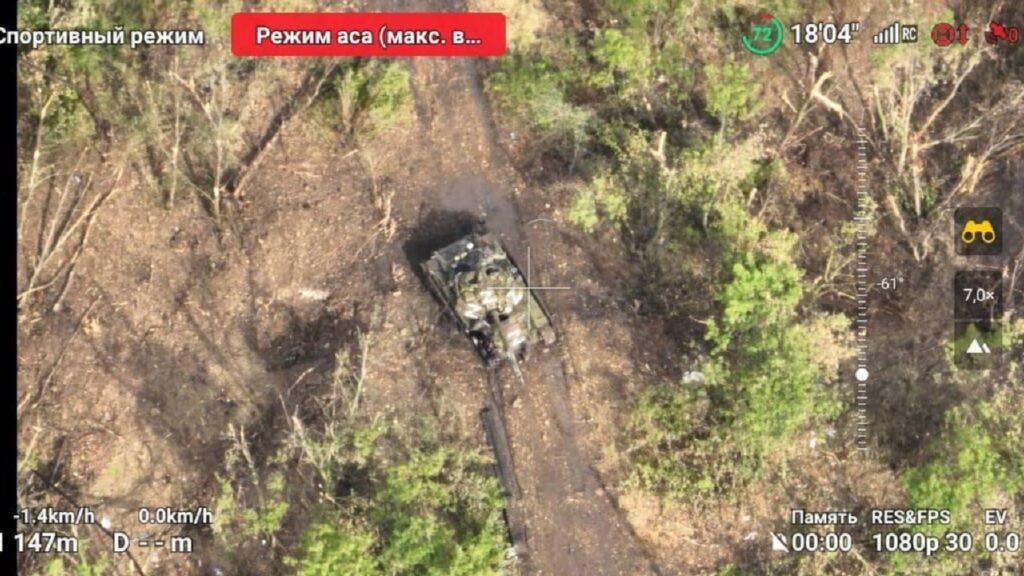tank: (418, 231, 558, 383)
